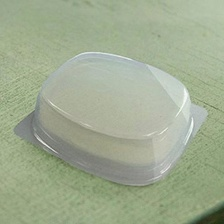plastic_box: (8, 44, 214, 195)
